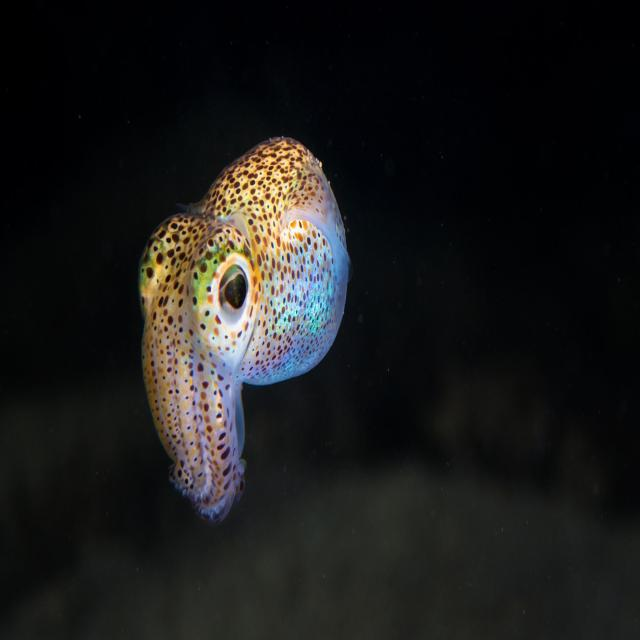squid: (139, 138, 351, 521)
